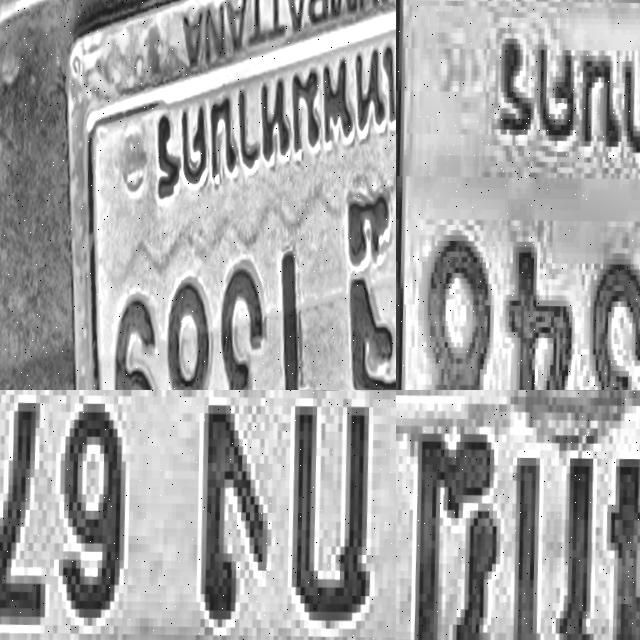license-plate: (45, 0, 396, 390), (0, 390, 396, 640), (396, 0, 640, 390), (396, 390, 640, 640)
